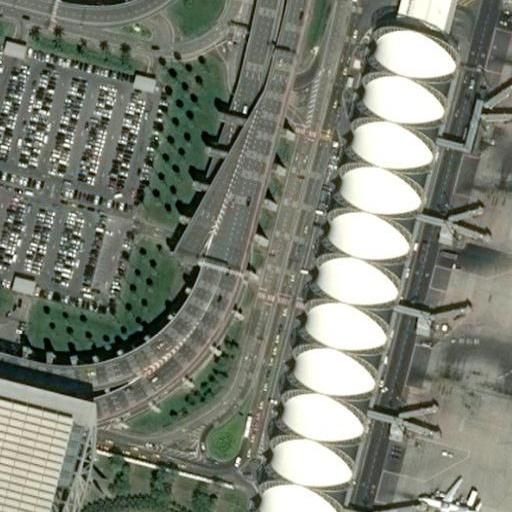Aircraft: (419, 472, 481, 512)
